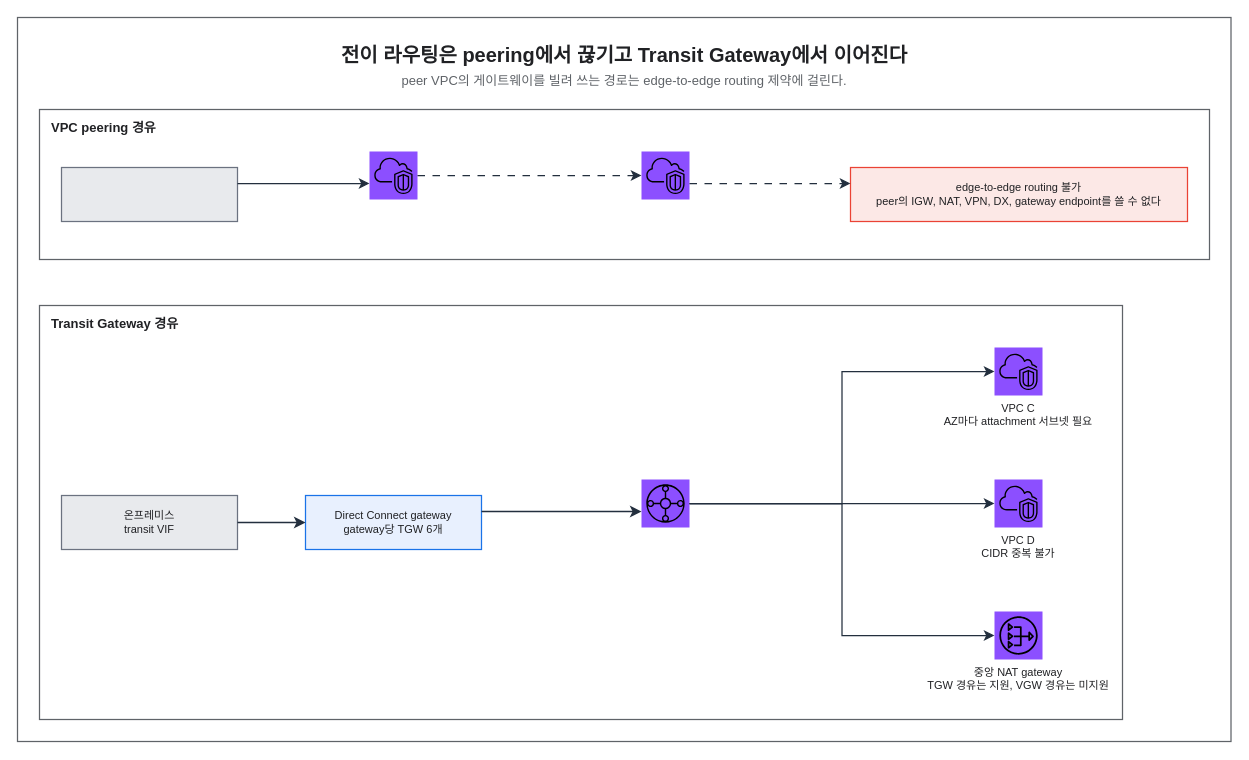
This 1249x760 diagram has some shape labels left out. Each missing label, with the centre of its shape:
Transit Gateway route table이 허용한 attachment 사이만 전이: pixel 665 503
VPC A peering 요청자: pixel 393 175
VPC B IGW, NAT, gateway endpoint 보유: pixel 665 175
온프레미스 private VIF로 VPC A에 도달: pixel 149 194
